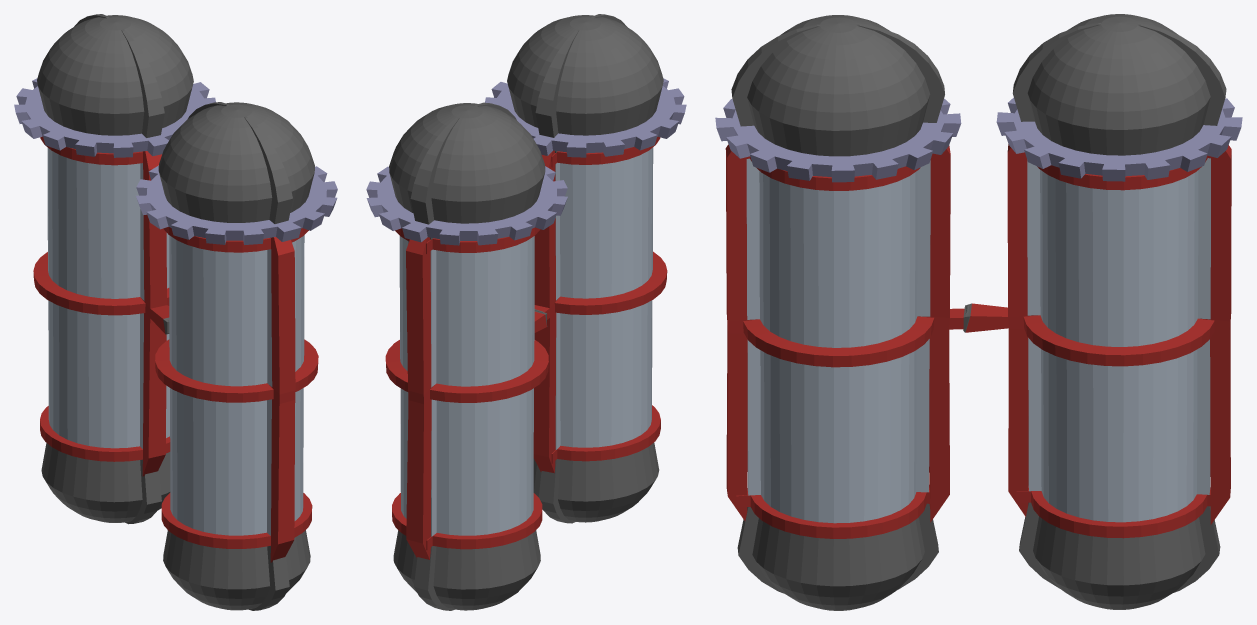
Rendered from Oxygen_Cylinder.fbx.
The picture shows the model from 3 angles, left to right: view 1: azimuth 30°, elevation 25°; view 2: azimuth 150°, elevation 25°; view 3: azimuth 270°, elevation 25°; orthographic projection. The views are drawn at different scales.
Visible parts, largest first — view 1: Sphere.000, Sphere.001; view 2: Sphere.001, Sphere.000; view 3: Sphere.001, Sphere.000.
Boxes of the visible parts, x1=… form: Sphere.000: x1=136, y1=102, x2=337, y2=610; Sphere.001: x1=14, y1=14, x2=215, y2=524; Sphere.001: x1=366, y1=102, x2=567, y2=610; Sphere.000: x1=485, y1=14, x2=686, y2=523; Sphere.001: x1=965, y1=14, x2=1242, y2=609; Sphere.000: x1=715, y1=15, x2=964, y2=610.
Bounding box in the file's own units: 255 × 680 × 561.
